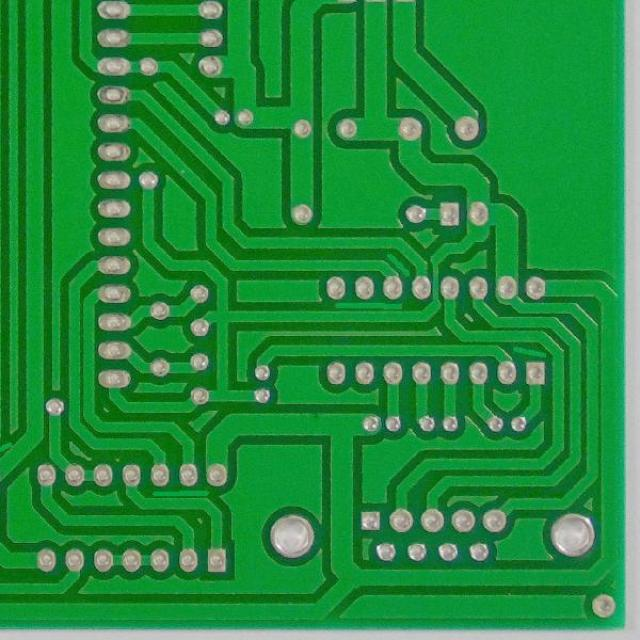Spurious_Cooper: (381, 247, 415, 280), (150, 486, 212, 500), (330, 301, 405, 312), (511, 340, 550, 360)
